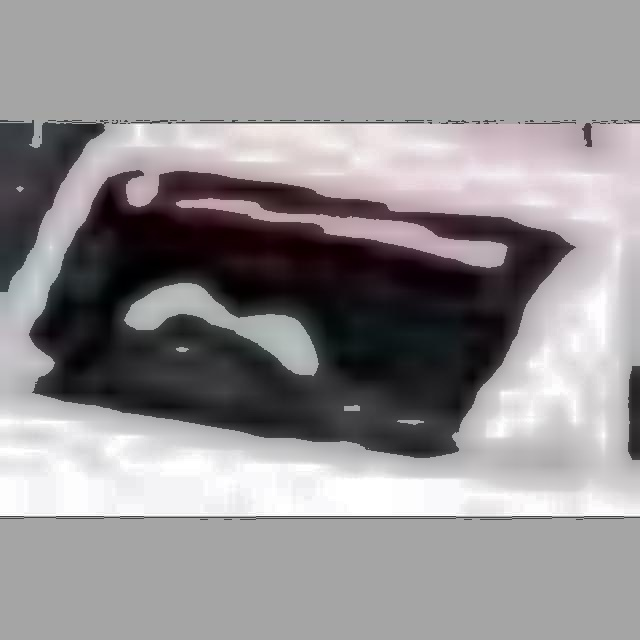tidak-pakai: (102, 226, 291, 400)
